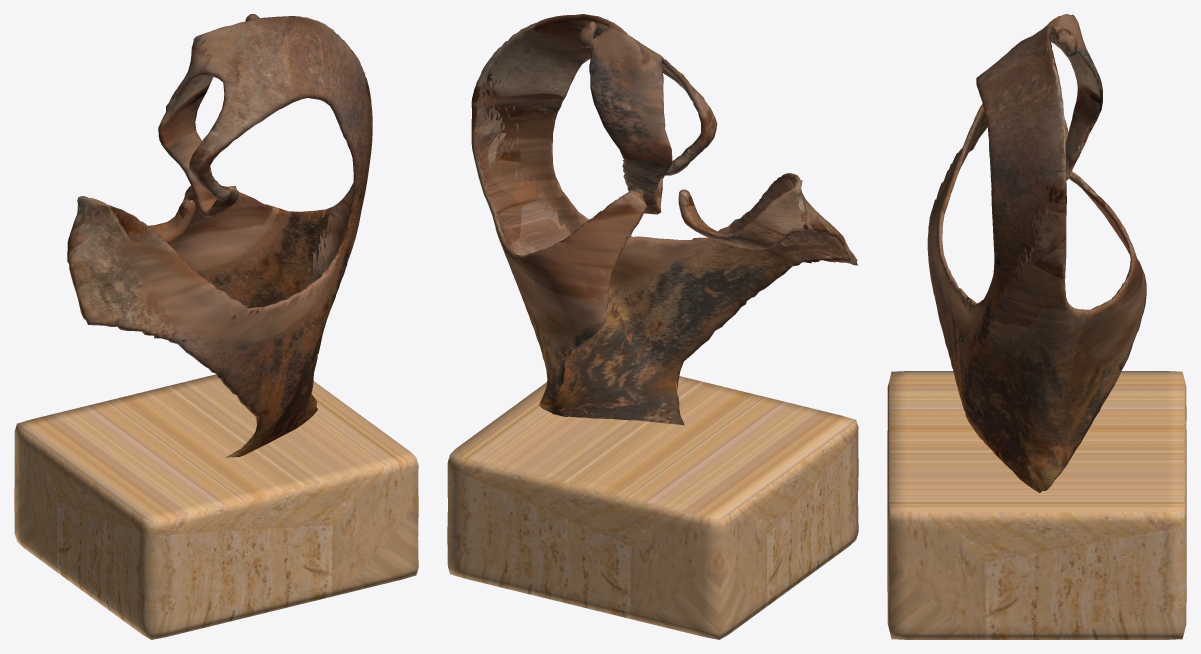
Rendered from hy3d-esc-035.glb.
The picture shows the model from 3 angles, left to right: view 1: azimuth 30°, elevation 25°; view 2: azimuth 150°, elevation 25°; view 3: azimuth 270°, elevation 25°; orthographic projection. The views are drawn at different scales.
Visible parts, largest first — view 1: world; view 2: world; view 3: world.
Boxes of the visible parts, x1,y1,x2,y2 form: world: [14, 14, 418, 639]; world: [447, 14, 858, 639]; world: [887, 14, 1186, 639].
Bounding box in the file's own units: 0.7582 × 1.15 × 0.5506.
1 material, 1 textured.
